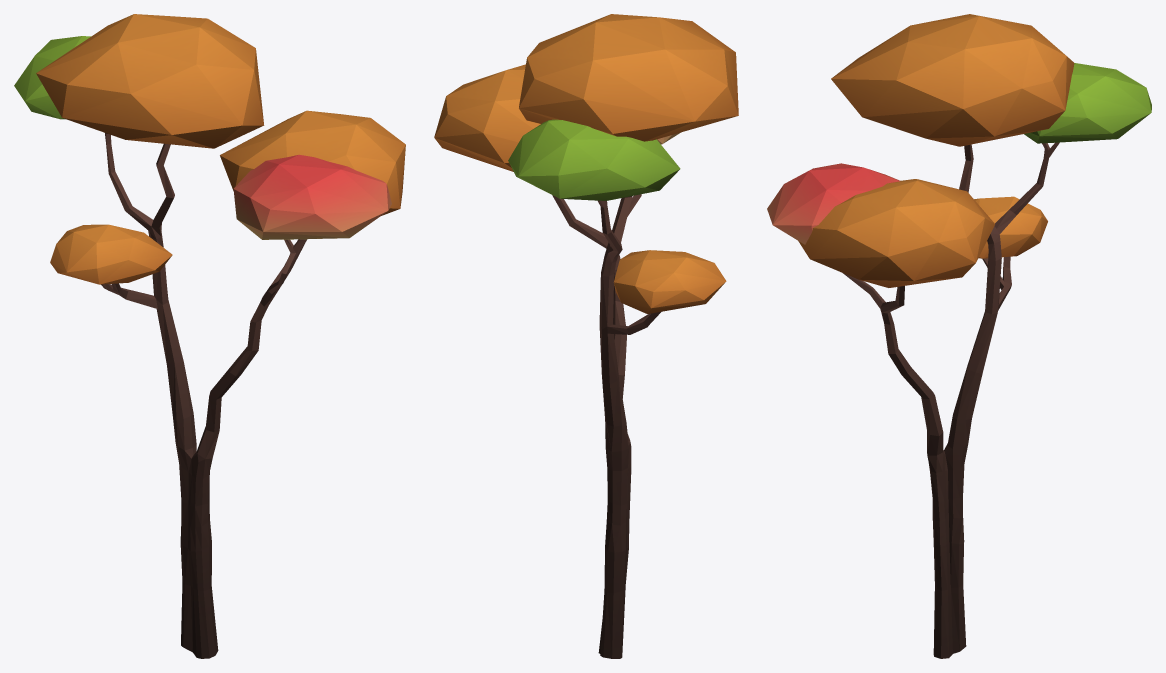
Rendered from ZLP_Plant_F_6.FBX.
The picture shows the model from 3 angles, left to right: view 1: azimuth 30°, elevation 25°; view 2: azimuth 150°, elevation 25°; view 3: azimuth 270°, elevation 25°; orthographic projection. The views are drawn at different scales.
Parts seen in each view (by area): view 1: ZLP_Plant_F_6; view 2: ZLP_Plant_F_6; view 3: ZLP_Plant_F_6.
Boxes of the visible parts, <box> form: ZLP_Plant_F_6: <box>14,14,405,658</box>; ZLP_Plant_F_6: <box>434,14,738,658</box>; ZLP_Plant_F_6: <box>767,14,1151,658</box>.
Size of the model in its own units: 182 by 352 by 202.
